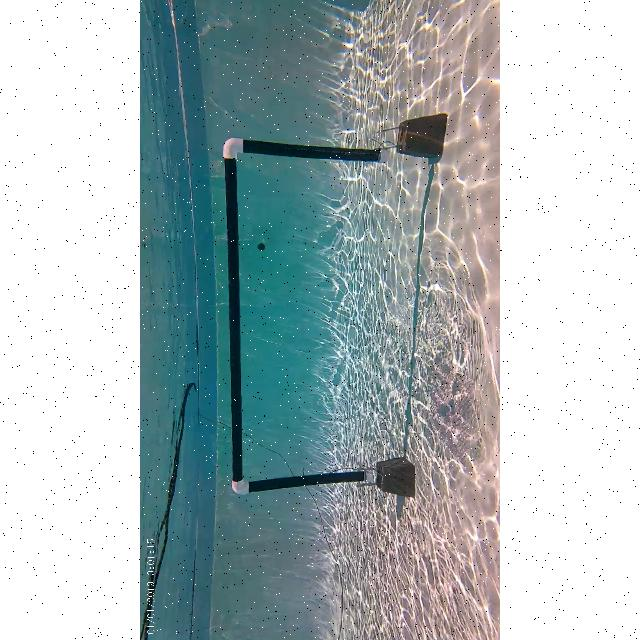prequal gate: (224, 137, 390, 496)
prequal gate leg l: (228, 462, 398, 496)
prequal gate leg r: (213, 136, 391, 174)
